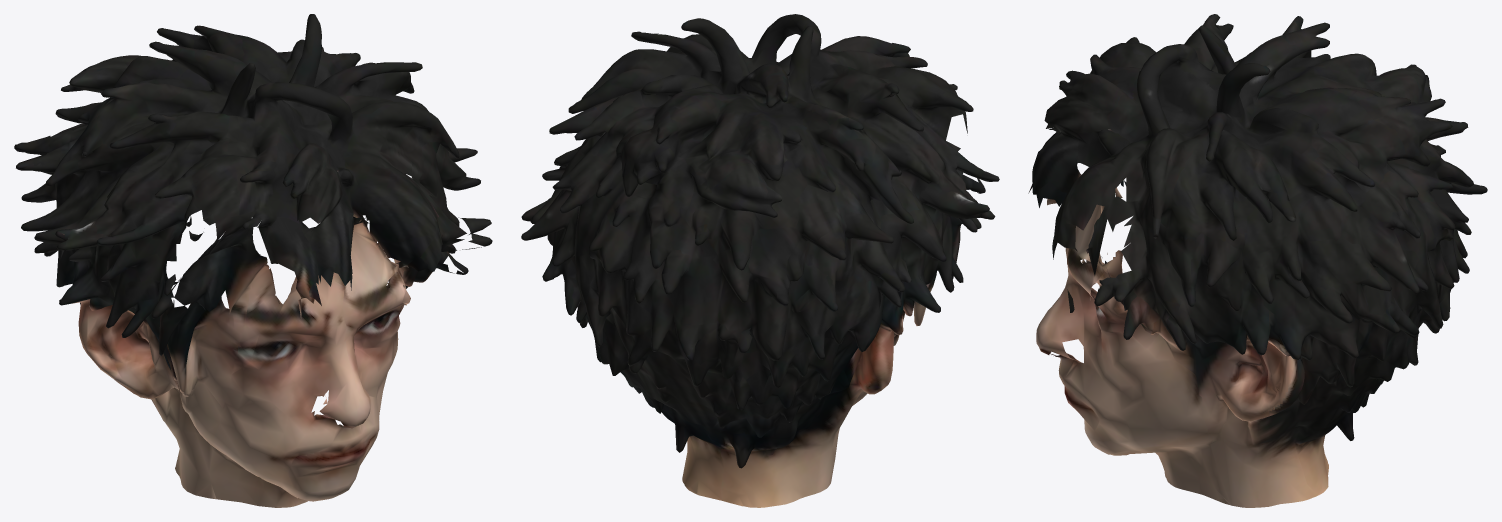
File: patient14.glb
The picture shows the model from 3 angles, left to right: view 1: azimuth 30°, elevation 25°; view 2: azimuth 150°, elevation 25°; view 3: azimuth 270°, elevation 25°; orthographic projection.
Parts seen in each view (by area): view 1: patient14; view 2: patient14; view 3: patient14.
Boxes of the visible parts, x1,y1,x2,y2 form: patient14: [14, 14, 492, 507]; patient14: [521, 14, 999, 507]; patient14: [1028, 14, 1487, 507].
Bounding box in the file's own units: 0.2591 × 0.2601 × 0.2446.
1 material, 1 textured.
